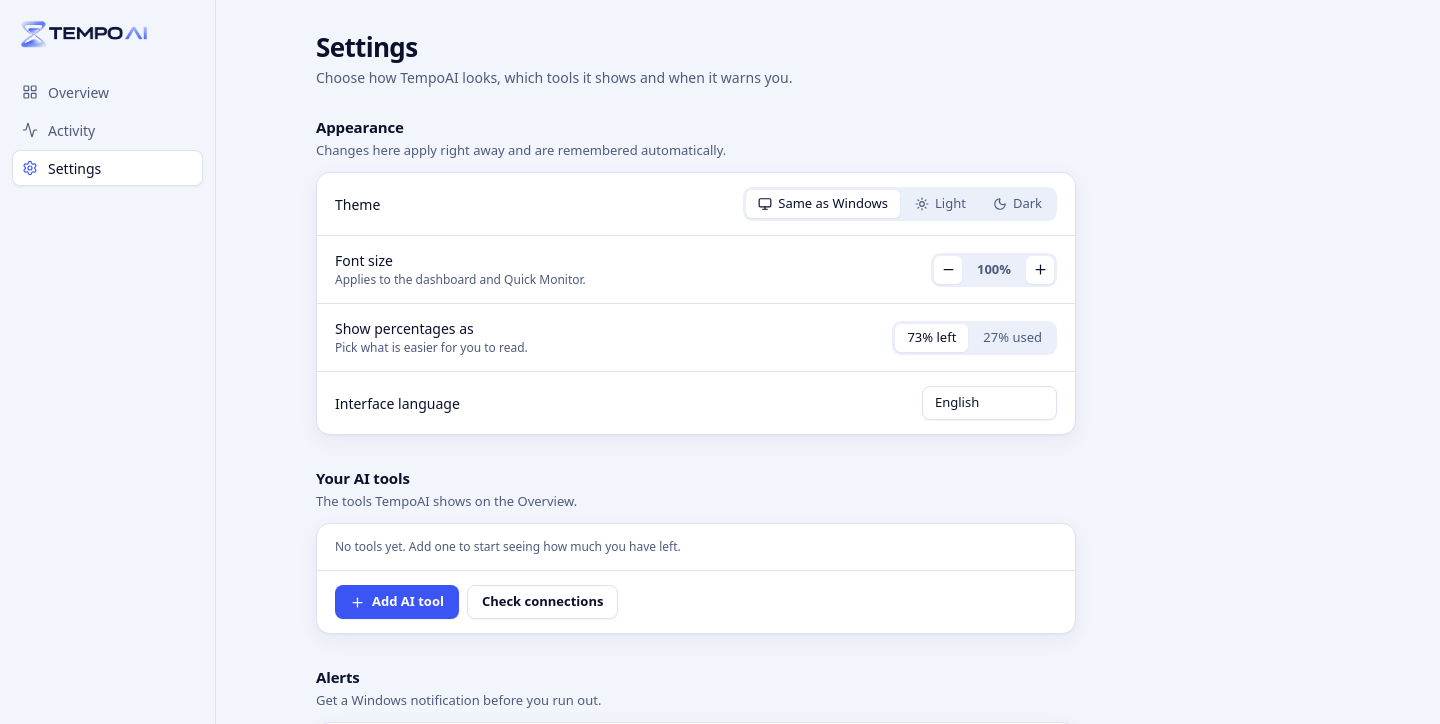
Test: scales font size up, down and back to default in Settings and sends partial UI patches
Expected: the button named "Reset font size to 100%" reads "100%", [966,256,1022,284]
Expected: the button named "Reset font size to 100%" is disabled, [966,256,1022,284]
Click the button named "Increase font size" at (1040, 270), box [1026,256,1054,284]
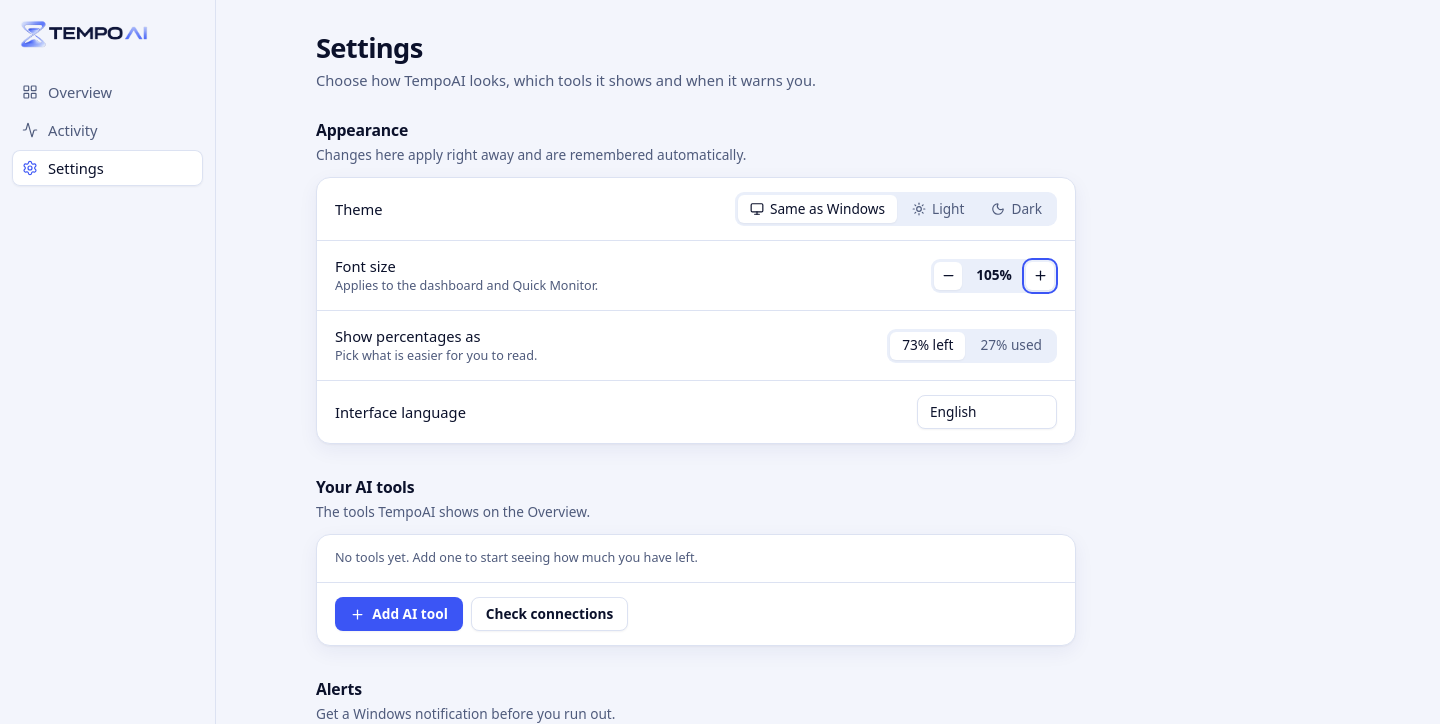
Expected: the button named "Reset font size to 100%" reads "105%", [966,261,1022,289]
Expected: the button named "Reset font size to 100%" is enabled, [966,261,1022,289]
Click the button named "Decrease font size" at (948, 275), box [934,261,962,289]
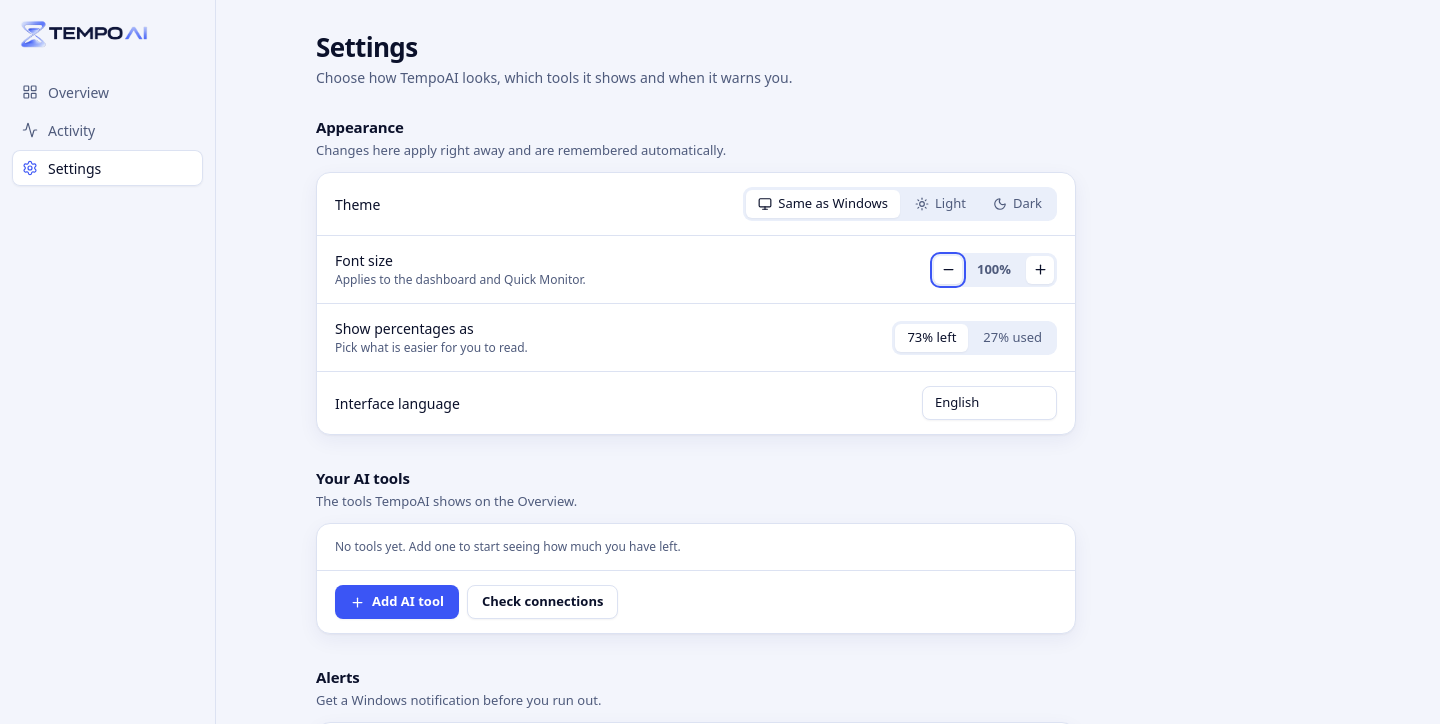
Click the button named "Decrease font size" at (948, 270), box [934,256,962,284]
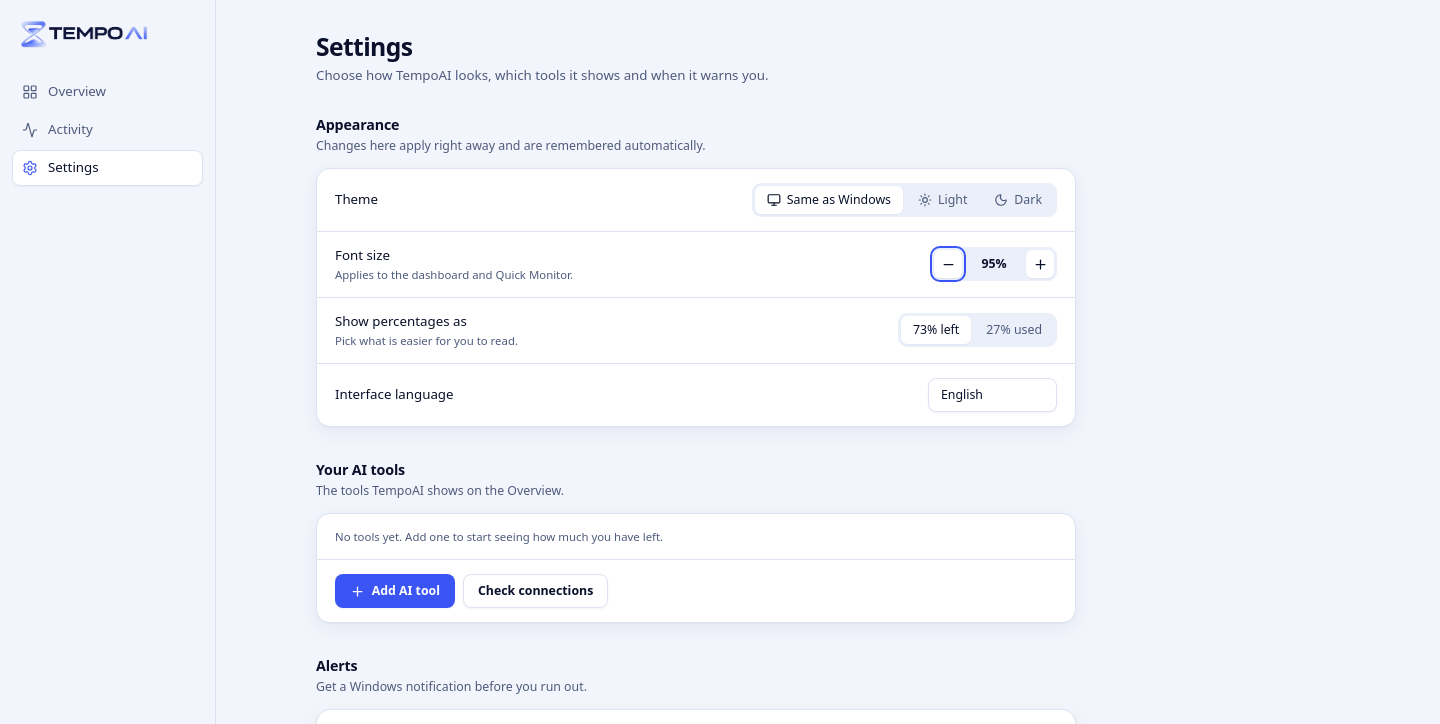
Expected: the button named "Reset font size to 100%" reads "95%"
Click the button named "Reset font size to 100%" at (994, 264), box [966,250,1022,278]
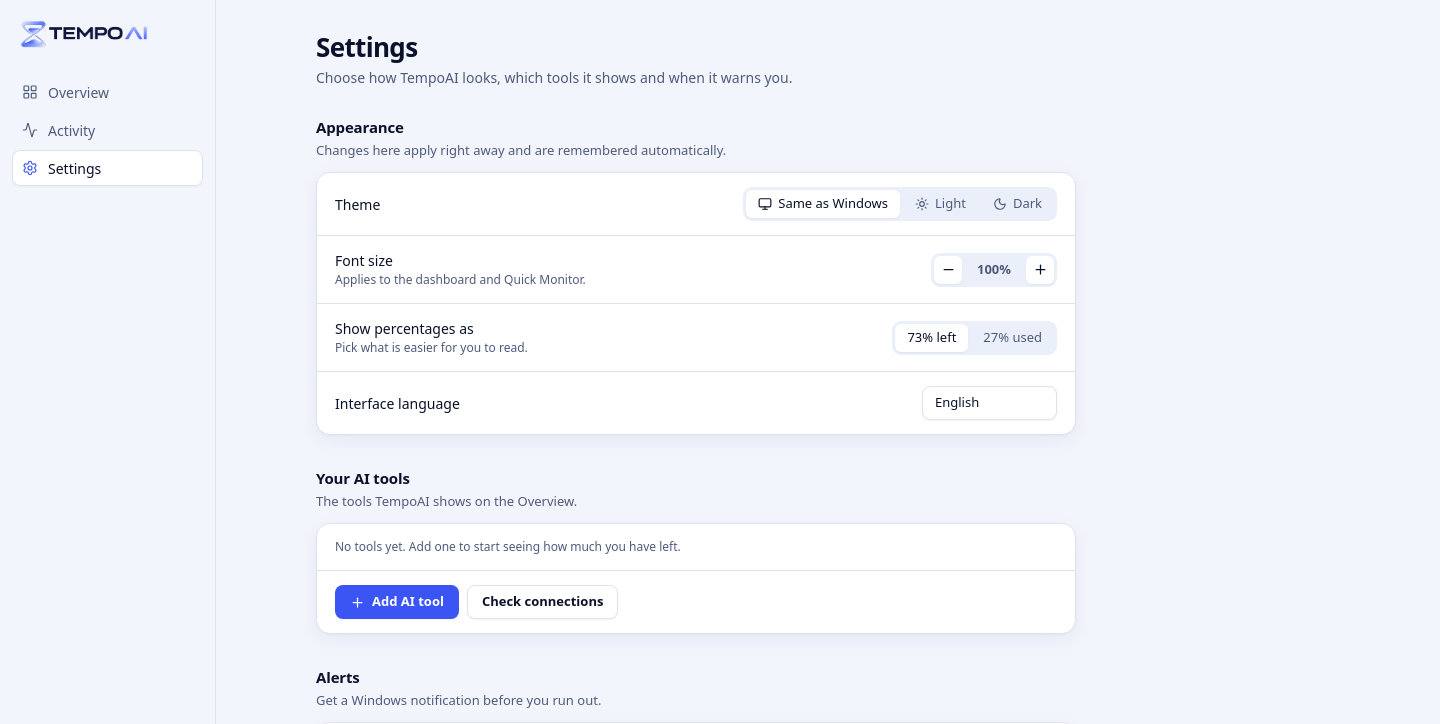
Expected: the button named "Reset font size to 100%" reads "100%", [966,256,1022,284]
